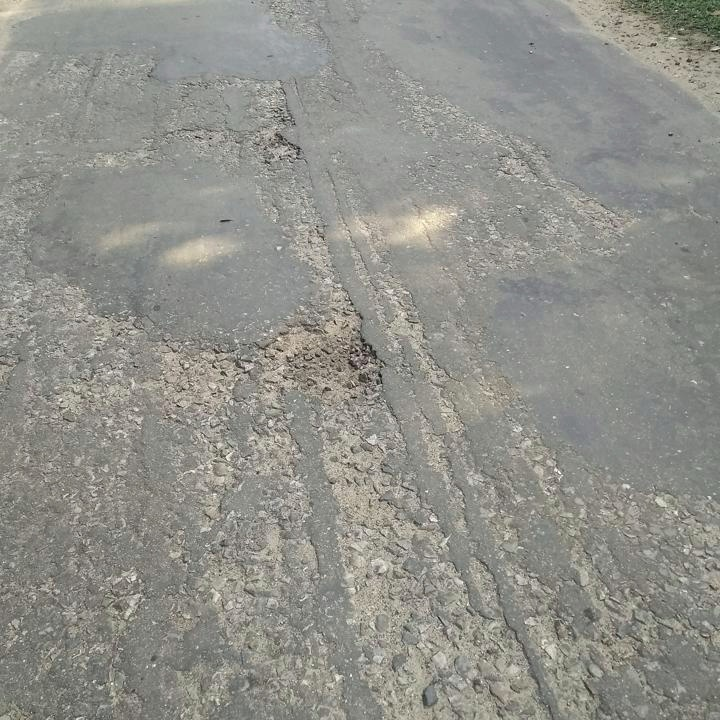pothole: (256, 314, 386, 400), (258, 130, 301, 167)
